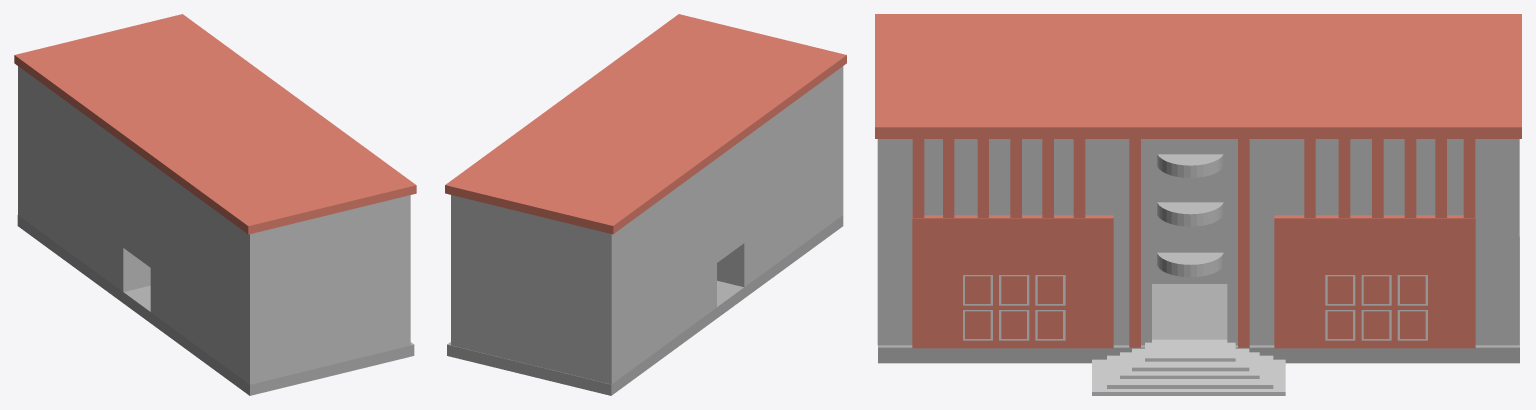
Rendered from 統計系.fbx.
3 renders of one model, left to right at view 1: azimuth 30°, elevation 25°; view 2: azimuth 150°, elevation 25°; view 3: azimuth 270°, elevation 25°, orthographic. The views are drawn at different scales.
Parts seen in each view (by area): view 1: 立方體, 立方體.018, 立方體.059; view 2: 立方體, 立方體.018, 立方體.059; view 3: 立方體.018, 立方體, 立方體.001, 立方體.002, 立方體.059, 立方體.056, 立方體.009, 立方體.010, 圓柱體, 圓柱體.001, 圓柱體.002, 立方體.005 (+11 smaller).
Part boxes in pixels (box(x1,y1,x2,y2)): 立方體: box(18, 66, 410, 384); 立方體.018: box(14, 14, 416, 234); 立方體.059: box(17, 215, 414, 395); 立方體: box(451, 66, 843, 384); 立方體.018: box(445, 14, 846, 234); 立方體.059: box(447, 215, 843, 395); 立方體.018: box(875, 14, 1521, 138); 立方體: box(877, 139, 1519, 345); 立方體.001: box(1274, 215, 1475, 348); 立方體.002: box(912, 215, 1113, 348); 立方體.059: box(878, 237, 1519, 363); 立方體.056: box(1092, 339, 1285, 395); 立方體.009: box(1129, 139, 1140, 347); 立方體.010: box(1238, 139, 1249, 347); 圓柱體: box(1157, 252, 1223, 277); 圓柱體.001: box(1157, 202, 1223, 226); 圓柱體.002: box(1157, 154, 1223, 177); 立方體.005: box(912, 139, 924, 217).
Bounding box in the file's own units: 2845 × 2162 × 5354.
